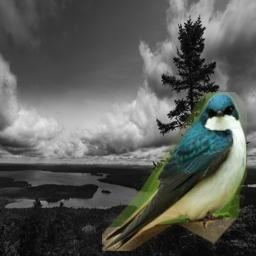Swallow: (102, 92, 247, 251)
